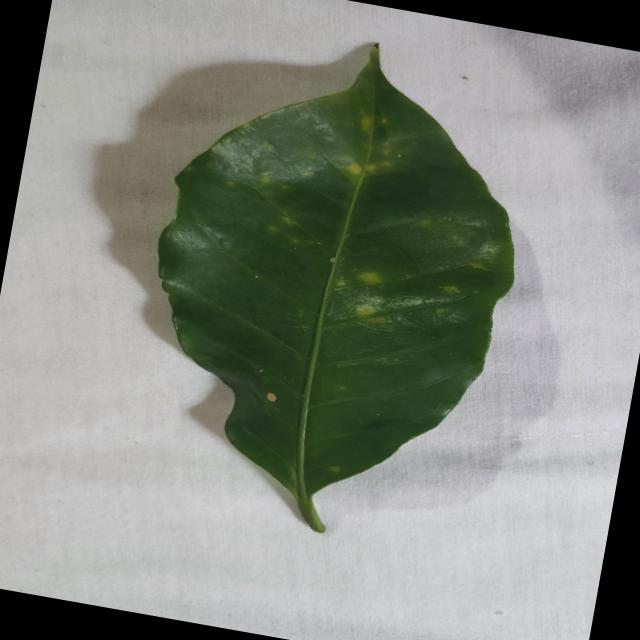KaratDaunKopi: (358, 272, 381, 283), (356, 305, 374, 316), (467, 262, 488, 270), (348, 163, 361, 174), (361, 116, 371, 130), (440, 286, 459, 293), (267, 224, 278, 232), (266, 393, 276, 401), (328, 466, 339, 472), (330, 256, 335, 262), (254, 275, 258, 278)
